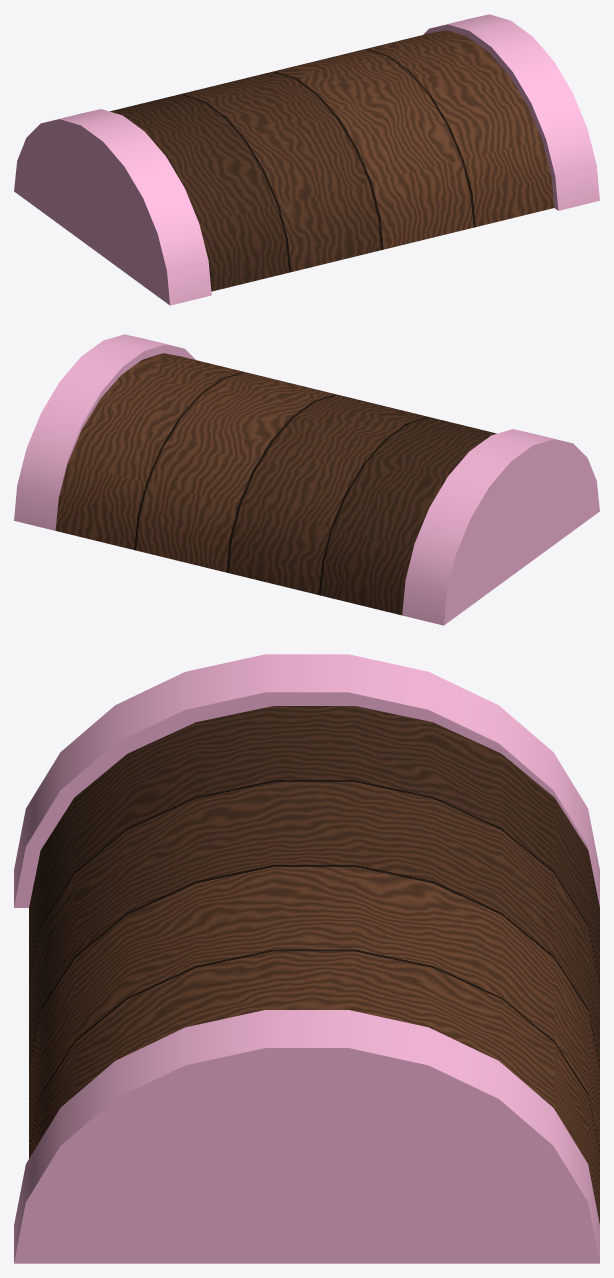
File: dun_lid_pink.glb
3 views of the same model, one above another, from view 1: azimuth 30°, elevation 25°; view 2: azimuth 150°, elevation 25°; view 3: azimuth 270°, elevation 25° (orthographic). The views are drawn at different scales.
Visible parts, largest first — view 1: dun_lid_pink_dwood_0, dun_lid_pink_satin_pink_0; view 2: dun_lid_pink_dwood_0, dun_lid_pink_satin_pink_0; view 3: dun_lid_pink_dwood_0, dun_lid_pink_satin_pink_0.
Part boxes in pixels (x1,y1,x2,y2): dun_lid_pink_dwood_0: (110,30,554,291); dun_lid_pink_satin_pink_0: (14,14,599,305); dun_lid_pink_dwood_0: (55,353,496,615); dun_lid_pink_satin_pink_0: (14,334,599,625); dun_lid_pink_dwood_0: (29,706,599,1224); dun_lid_pink_satin_pink_0: (14,654,599,1263).
Size of the model in its own units: 1.24 by 0.3167 by 0.78.
Materials: 2 (1 with a texture image).
